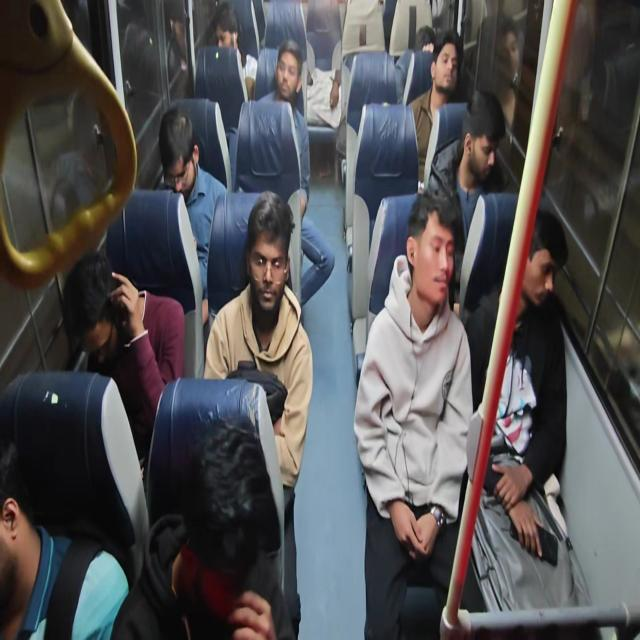person: (166, 420, 287, 634), (59, 249, 130, 371), (242, 194, 307, 304), (404, 193, 462, 304), (516, 202, 567, 318), (0, 404, 31, 591), (150, 105, 206, 194), (460, 90, 503, 178), (270, 44, 306, 104), (433, 38, 462, 102), (216, 1, 238, 58), (412, 24, 438, 56)
